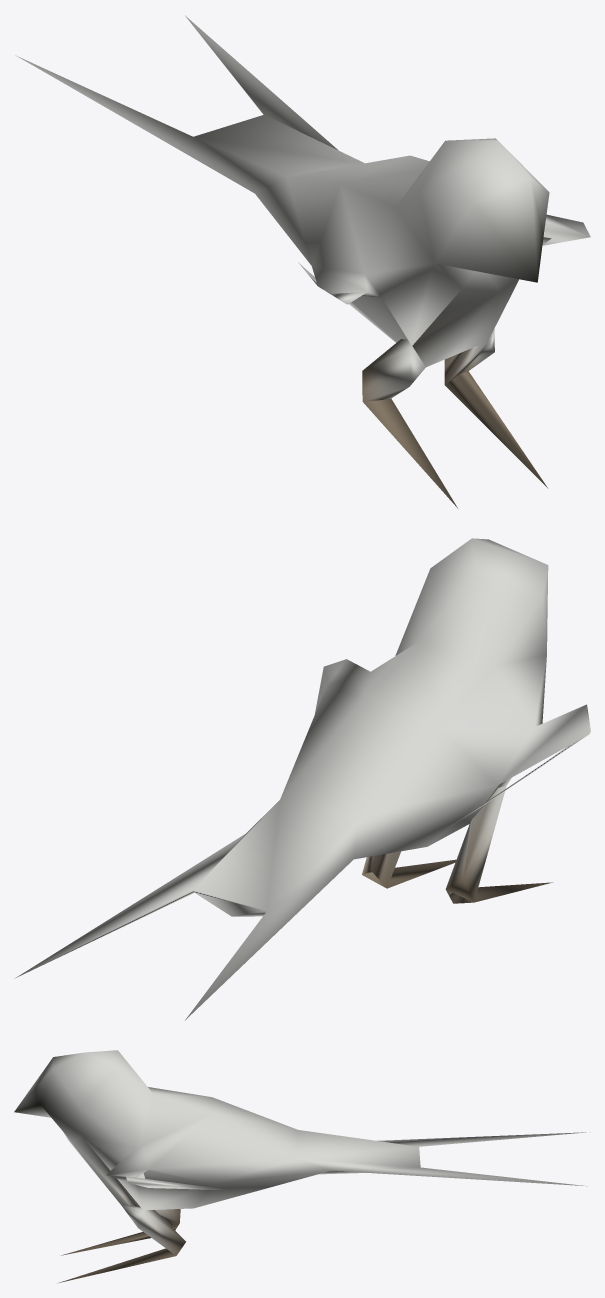
Rendered from swallow-1.glb.
3 renders of one model, top to bottom at view 1: azimuth 30°, elevation 25°; view 2: azimuth 150°, elevation 25°; view 3: azimuth 270°, elevation 25°, orthographic. The views are drawn at different scales.
Parts seen in each view (by area): view 1: swallow; view 2: swallow; view 3: swallow.
Boxes of the visible parts, x1,y1,x2,y2 form: swallow: (15,15,590,508); swallow: (14,538,590,1020); swallow: (14,1050,587,1282).
Bounding box in the file's own units: 0.0747 × 0.0918 × 0.2152.
